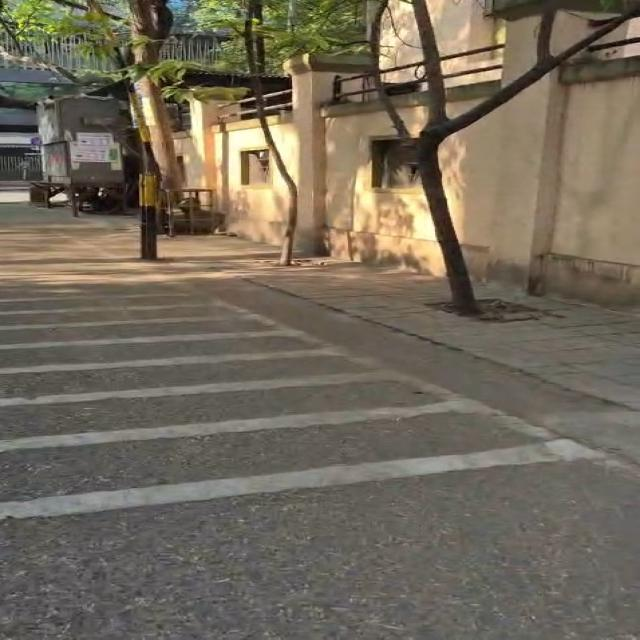obstacle: (244, 0, 298, 266), (417, 135, 479, 315), (136, 76, 182, 189)
